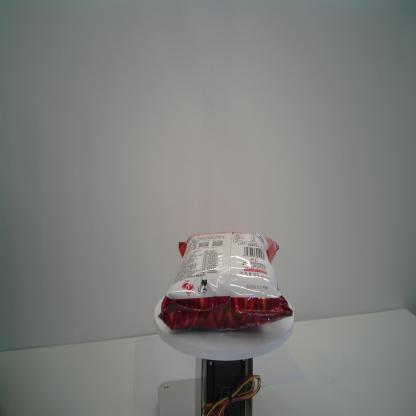Puffed Food: (158, 231, 294, 332)
